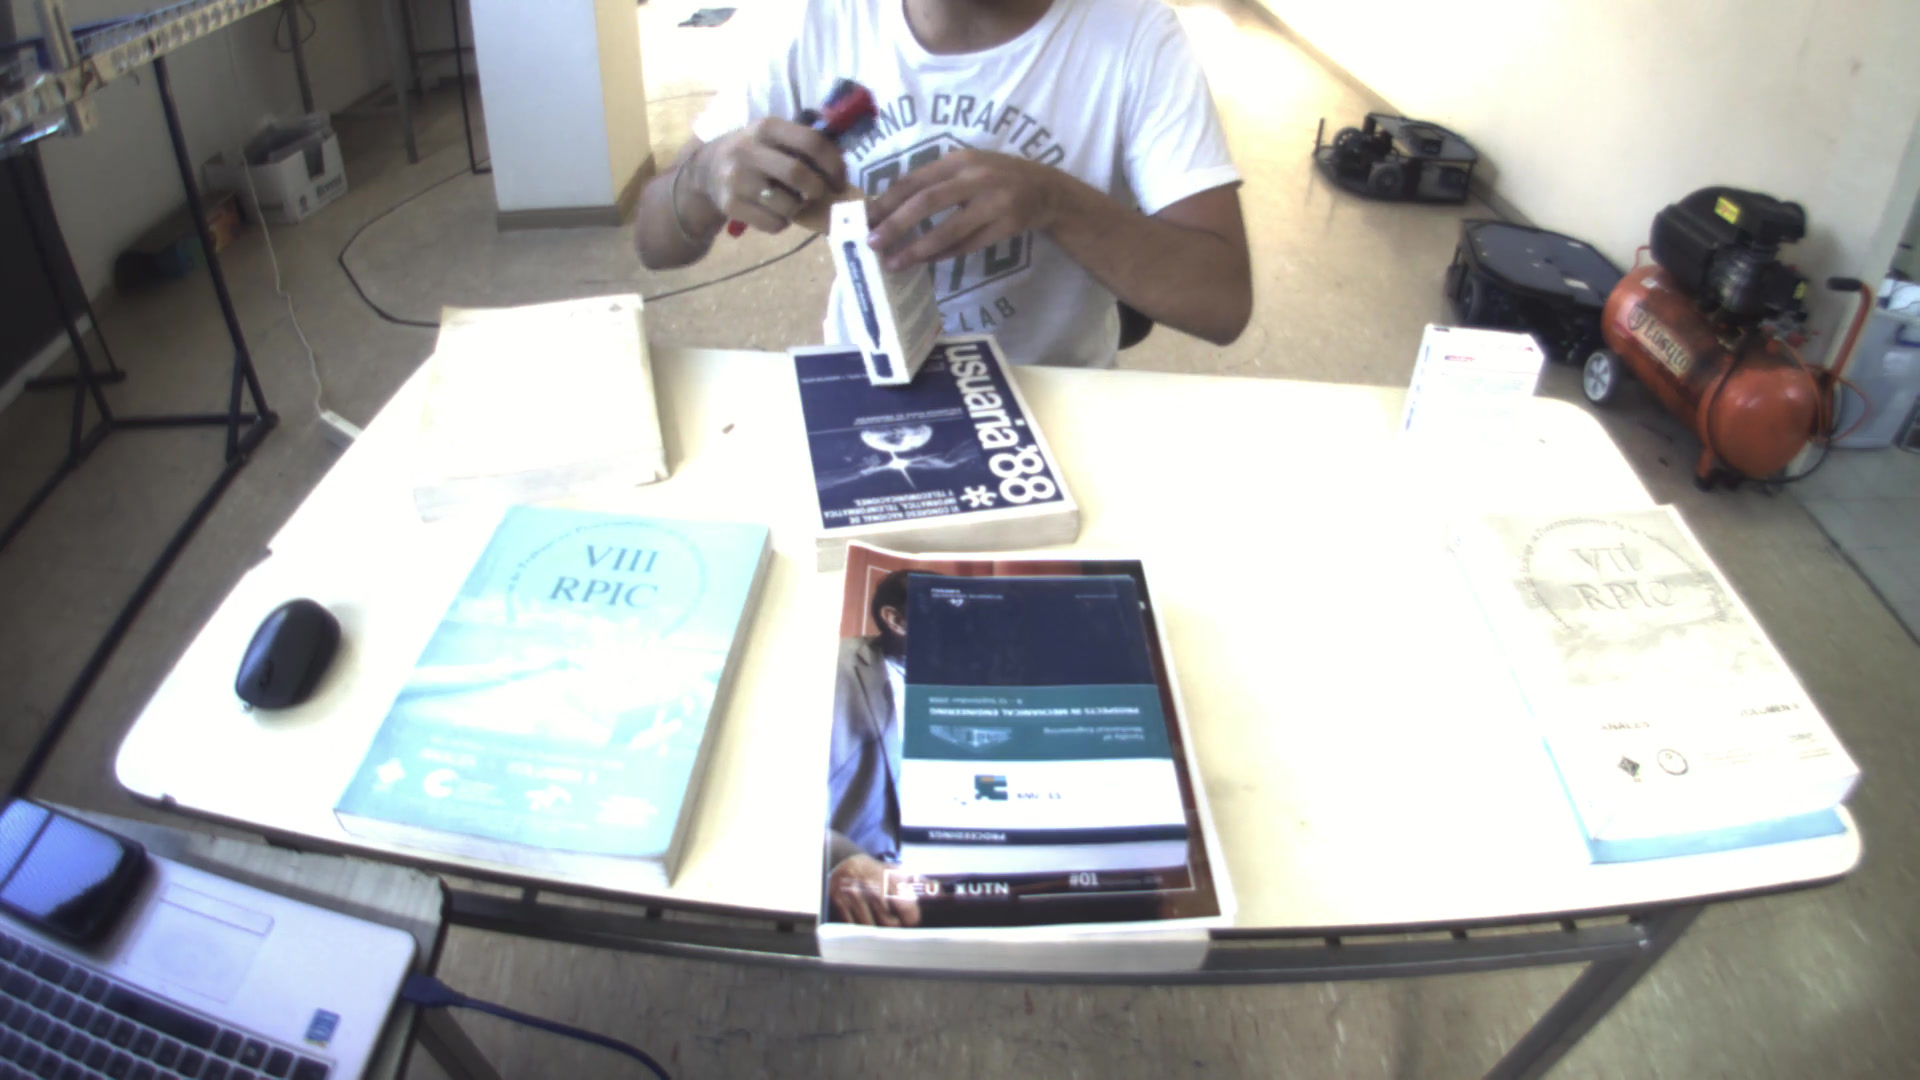hand: (857, 131, 1076, 264), (687, 108, 847, 236)
